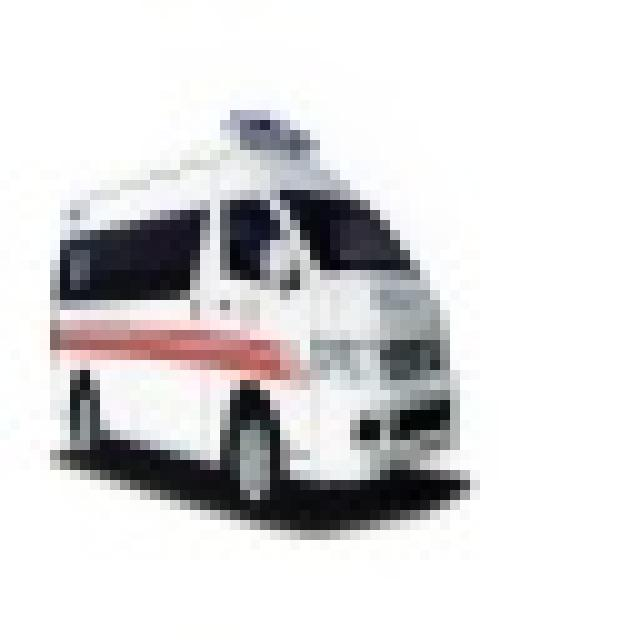Ambulance: (40, 100, 470, 510)
